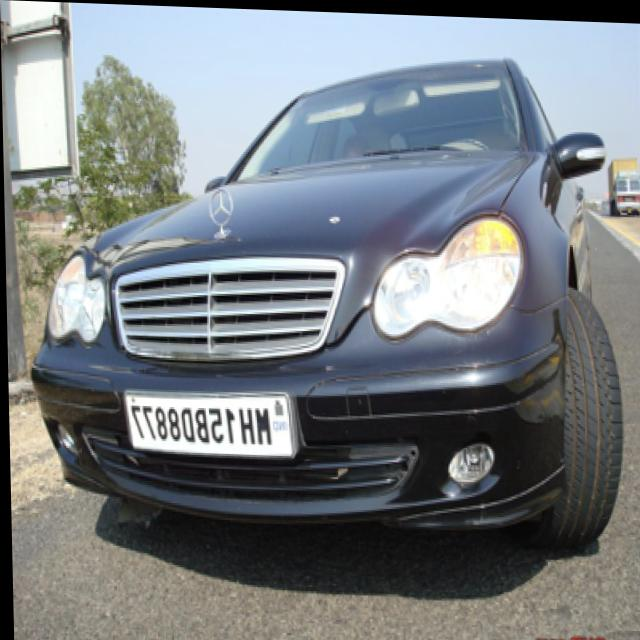licence: (123, 385, 289, 460)
